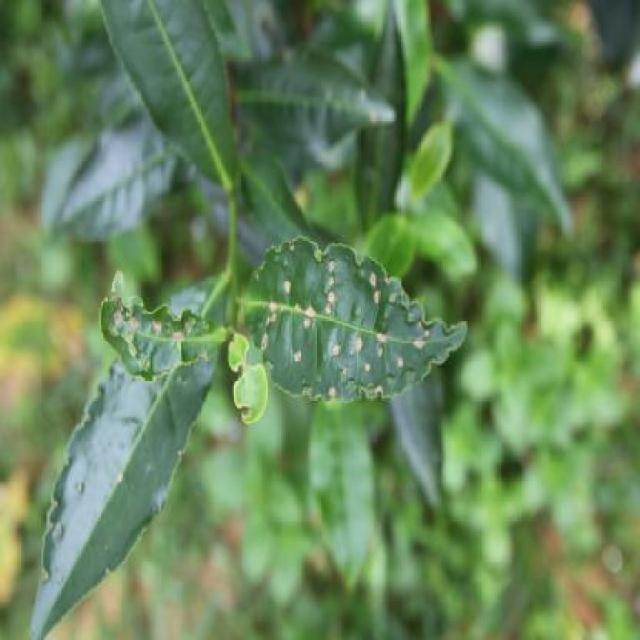Tea Mosquito bug infested leaf: (226, 234, 474, 415), (69, 265, 220, 389)
